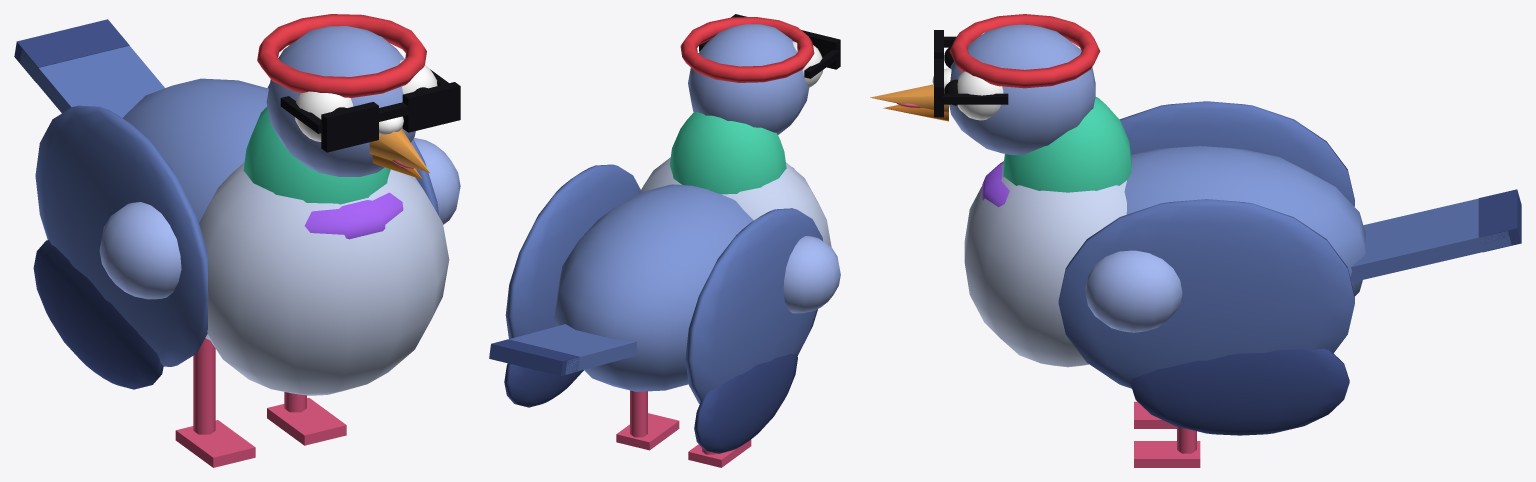
The model's file is pigeon_1.glb.
3 views of the same model, side by side, from view 1: azimuth 30°, elevation 25°; view 2: azimuth 150°, elevation 25°; view 3: azimuth 270°, elevation 25° (orthographic). The views are drawn at different scales.
Visible parts, largest first — view 1: body, wingL, head, tail, legL, legR, beakU, wingR, beakL; view 2: body, wingL, head, wingR, tail, legR, legL; view 3: wingR, body, head, wingL, tail, legR, beakU.
Boxes of the visible parts, box(x1,y1,x2,y2) form: body: box(99, 78, 460, 395); wingL: box(33, 105, 208, 389); head: box(257, 14, 460, 176); tail: box(14, 19, 164, 117); legL: box(175, 338, 255, 467); legR: box(267, 392, 346, 445); beakU: box(369, 128, 429, 172); wingR: box(267, 83, 439, 216); beakL: box(372, 155, 422, 179); body: box(554, 112, 840, 391); wingL: box(685, 208, 823, 453); head: box(680, 14, 840, 134); wingR: box(504, 164, 640, 407); tail: box(489, 324, 637, 376); legR: box(616, 390, 679, 450); legL: box(688, 439, 751, 467); wingR: box(1058, 199, 1354, 435); body: box(964, 97, 1365, 367); head: box(932, 14, 1100, 154); wingL: box(1119, 101, 1354, 206); tail: box(1350, 189, 1521, 282); legR: box(1134, 426, 1200, 467); beakU: box(870, 84, 948, 112).
Bounding box in the file's own units: 1.06 × 1.36 × 1.97.
